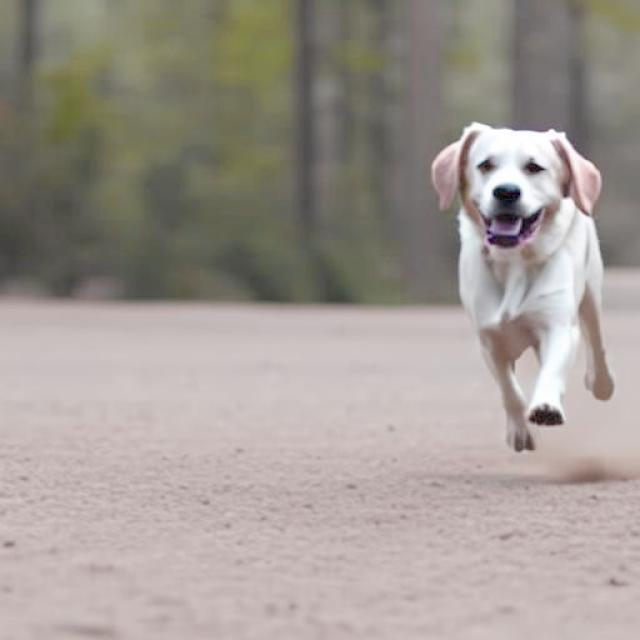Dog: (431, 121, 616, 453)
